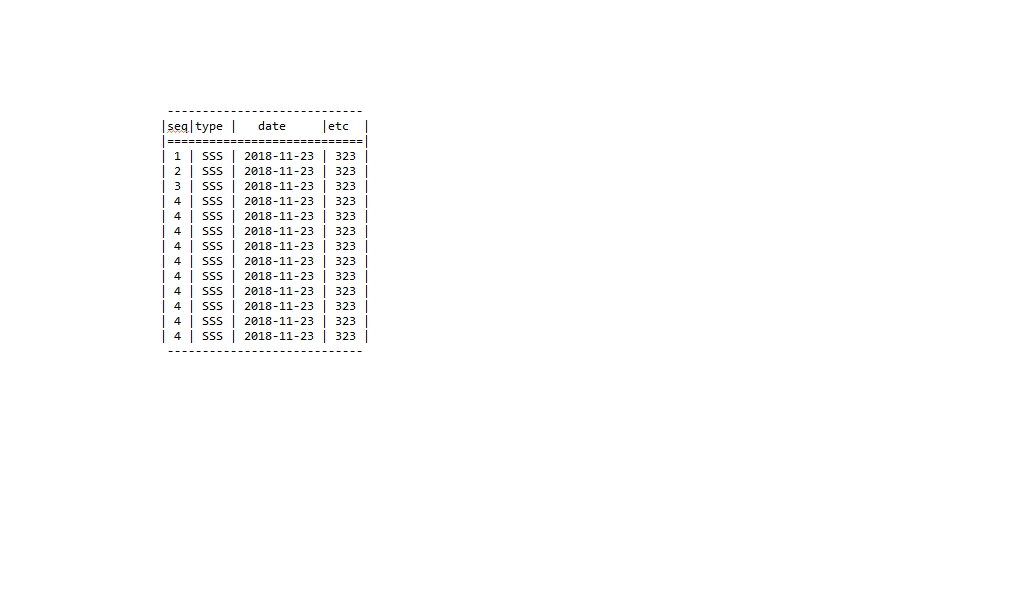table: (158, 106, 373, 357)
